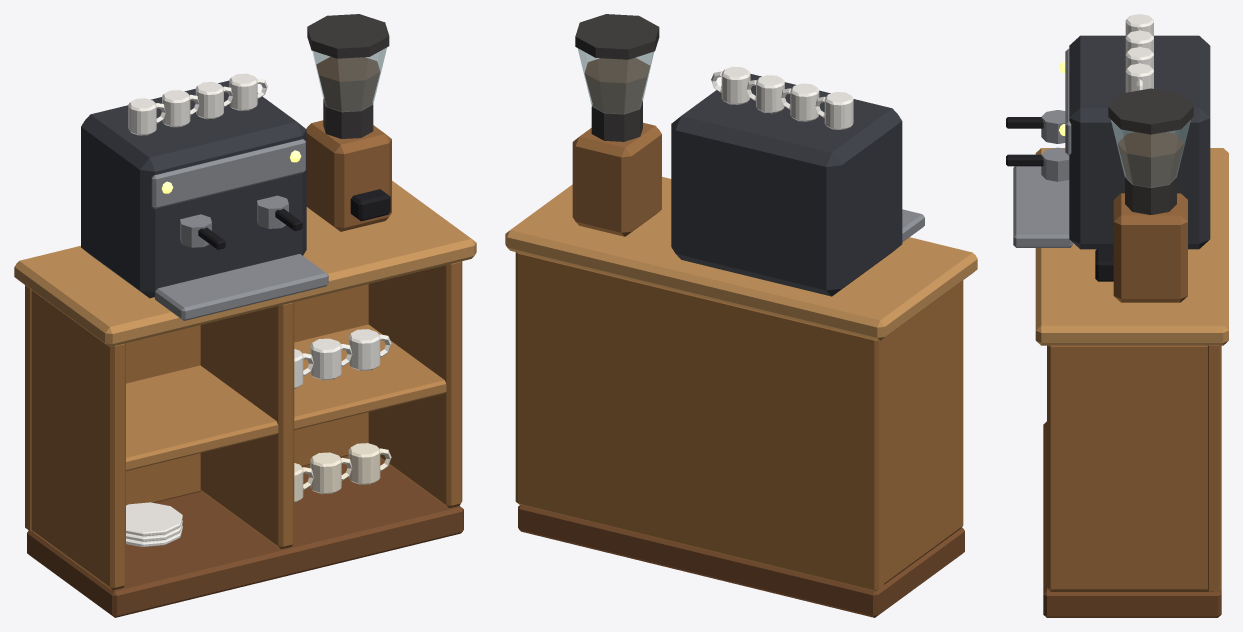
Rendered from coffee_station.glb.
3 renders of one model, left to right at view 1: azimuth 30°, elevation 25°; view 2: azimuth 150°, elevation 25°; view 3: azimuth 270°, elevation 25°, orthographic. The views are drawn at different scales.
Visible parts, largest first — view 1: coffee_station; view 2: coffee_station; view 3: coffee_station.
Boxes of the visible parts, x1=… form: coffee_station: x1=14, y1=14, x2=476, y2=617; coffee_station: x1=505, y1=14, x2=977, y2=617; coffee_station: x1=1006, y1=14, x2=1228, y2=617.
Size of the model in its own units: 1.16 by 1.43 by 0.6.
